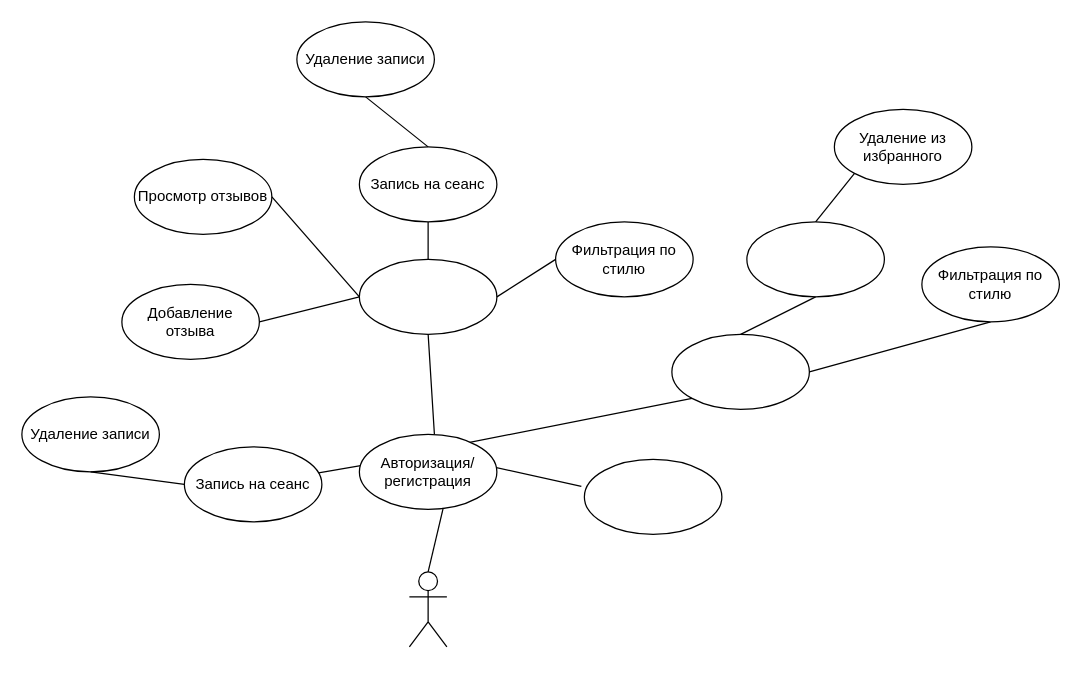
This 1081x695 diagram has some shape labels left out. The box of each missing label's shape, as (x1, y1, x2, y2) in pixels:
Добавление в избранное: (746, 221, 884, 297)
Клиент: (408, 571, 447, 647)
Просмотр личных записей: (583, 458, 722, 534)
Просмотр портфолио мастеров: (358, 258, 497, 334)
Просмотр эскизов: (671, 333, 809, 409)
